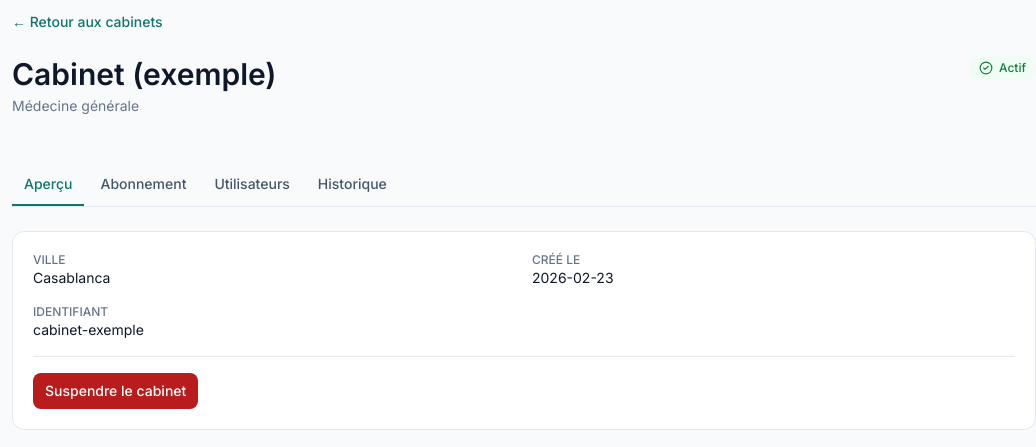
Test: TenantDetailPage › History tab shows the real static audit event for Othmane Zouiten's deactivation
What coordinates should you click on to do the following:
click the tab "Historique"
I would click on:
 (352, 185)
Its box is [306,164,399,206].
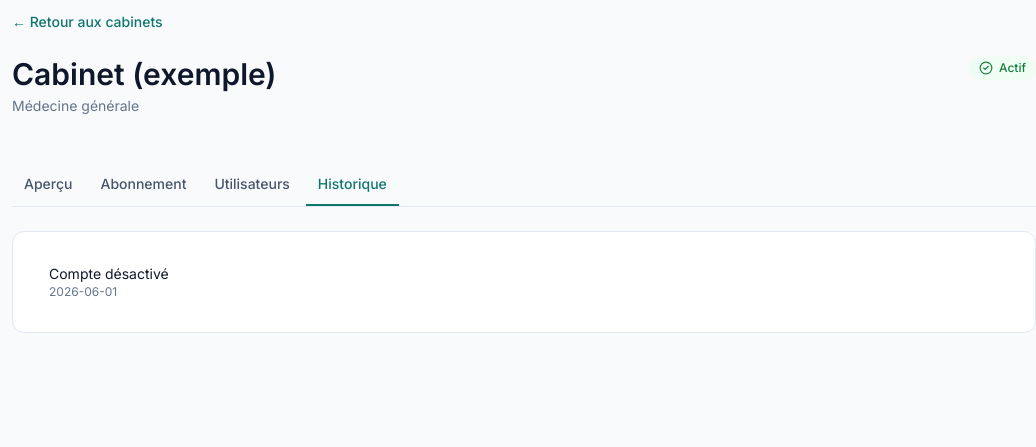
Expected: the text "Compte désactivé" is shown, [49,265,169,282]
